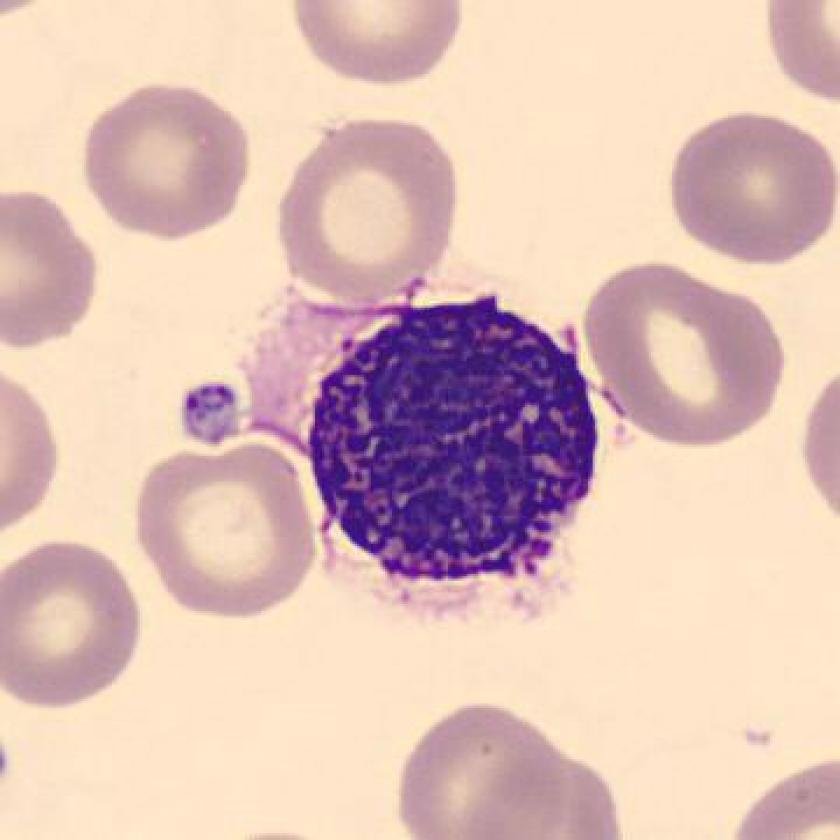basophil: (288, 286, 615, 626)
